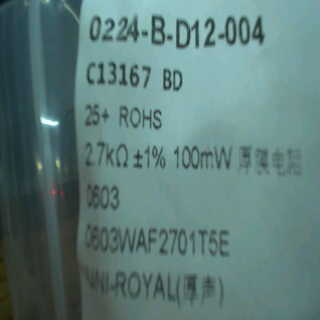2.7kR: (82, 140, 133, 171)
